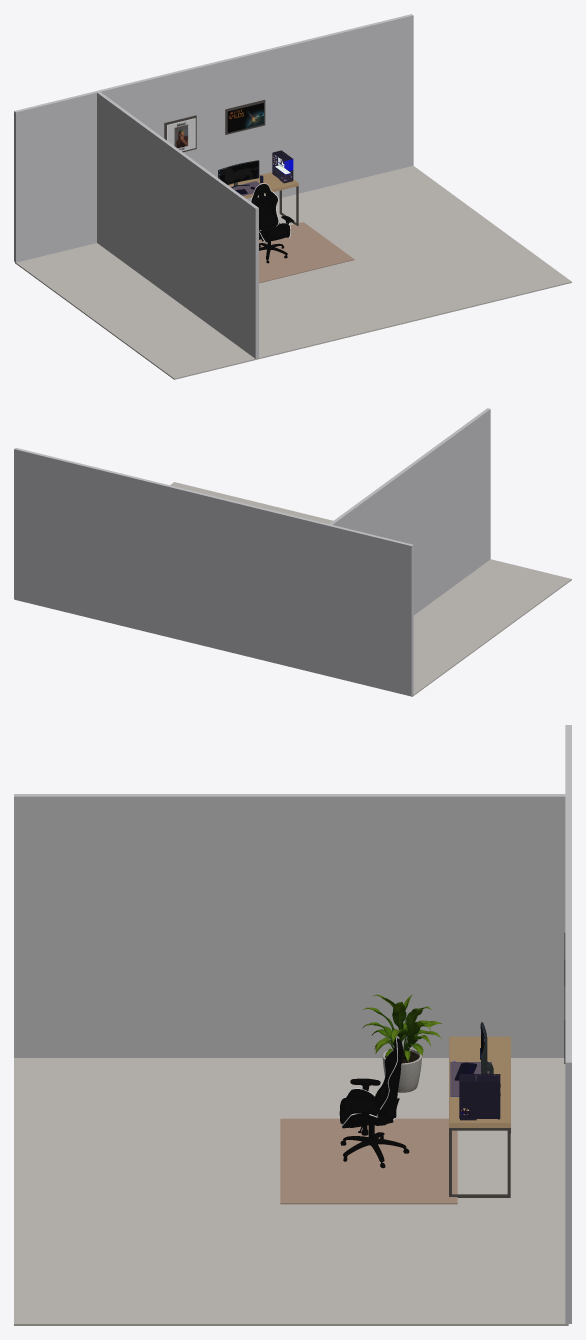
File: diorama.glb
3 views of the same model, one above another, from view 1: azimuth 30°, elevation 25°; view 2: azimuth 150°, elevation 25°; view 3: azimuth 270°, elevation 25° (orthographic). The views are drawn at different scales.
Parts seen in each view (by area): view 1: Floor, WallBack, WallLeft, Rug, DeskSetup, ChairTop, PicH, PicV, MonitorTela; view 2: WallBack, WallLeft, Floor; view 3: WallLeft, Floor, Rug, DeskSetup, WallBack, ChairTop, Plant, Chair.
Part boxes in pixels (x1,y1,x2,y2): Floor: (15, 166, 571, 379); WallBack: (14, 14, 413, 262); WallLeft: (97, 92, 258, 358); Rug: (259, 222, 354, 283); DeskSetup: (218, 150, 298, 225); ChairTop: (250, 183, 293, 243); PicH: (227, 103, 263, 132); PicV: (167, 118, 195, 151); MonitorTela: (219, 161, 258, 184); WallBack: (14, 448, 413, 696); WallLeft: (329, 408, 490, 615); Floor: (15, 482, 571, 696); WallLeft: (14, 794, 565, 1057); Floor: (14, 1058, 568, 1325); Rug: (280, 1118, 457, 1204); DeskSetup: (449, 1022, 510, 1197); WallBack: (565, 725, 571, 1323); ChairTop: (339, 1037, 403, 1135); Plant: (362, 994, 441, 1092); Chair: (340, 1125, 409, 1168).
Bounding box in the file's own units: 7.2 × 2.62 × 5.03.
18 materials, 10 textured.
